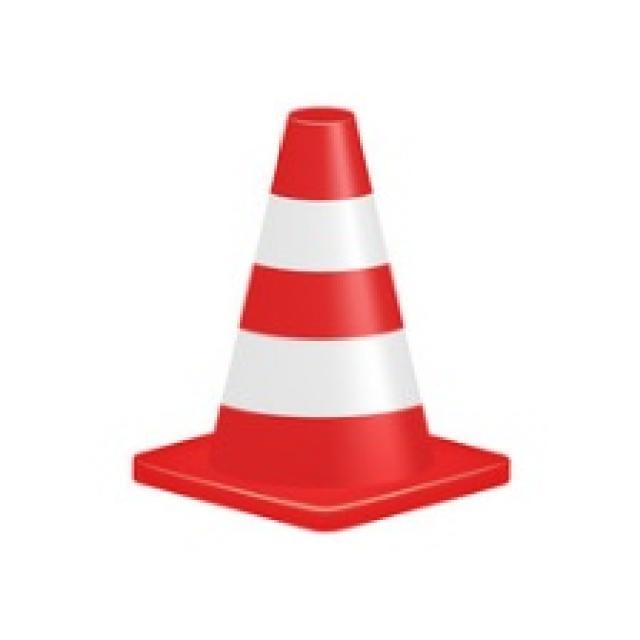cone: (129, 106, 519, 535)
